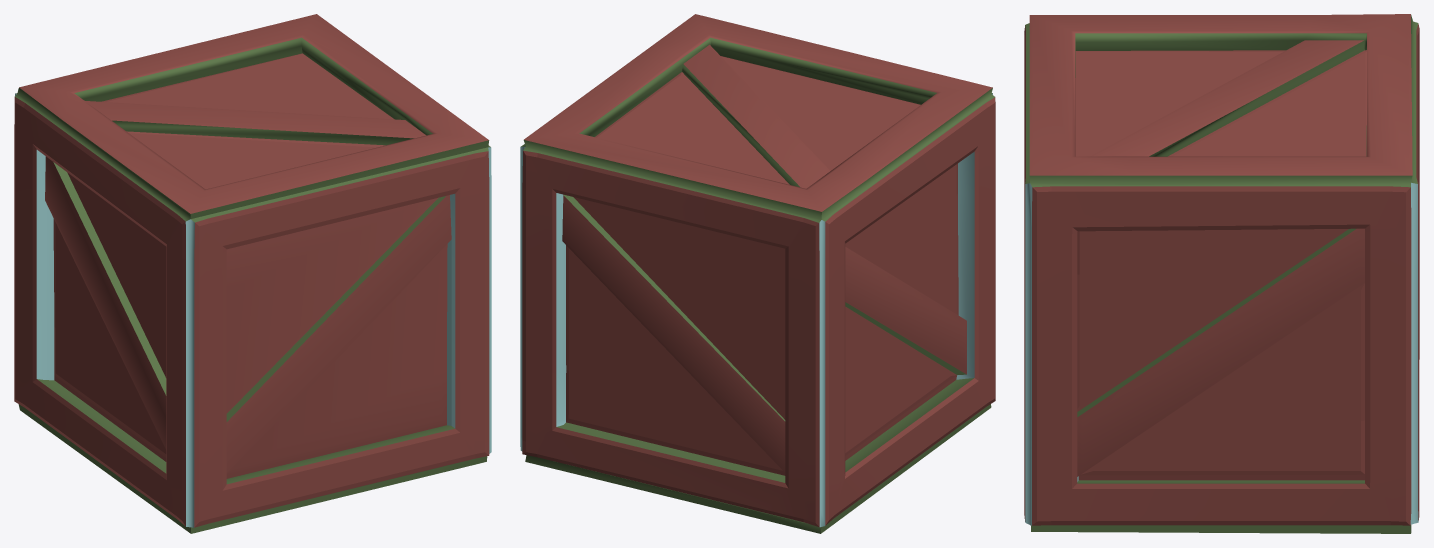
Rendered from cajablot.fbx.
3 renders of one model, left to right at view 1: azimuth 30°, elevation 25°; view 2: azimuth 150°, elevation 25°; view 3: azimuth 270°, elevation 25°, orthographic. The views are drawn at different scales.
Visible parts, largest first — view 1: Box001; view 2: Box001; view 3: Box001.
Part boxes in pixels (box(x1,y1,x2,y2)): Box001: box(14, 14, 491, 533); Box001: box(520, 14, 995, 533); Box001: box(1024, 14, 1419, 533).
Bounding box in the file's own units: 23.23 × 23.39 × 23.19.
